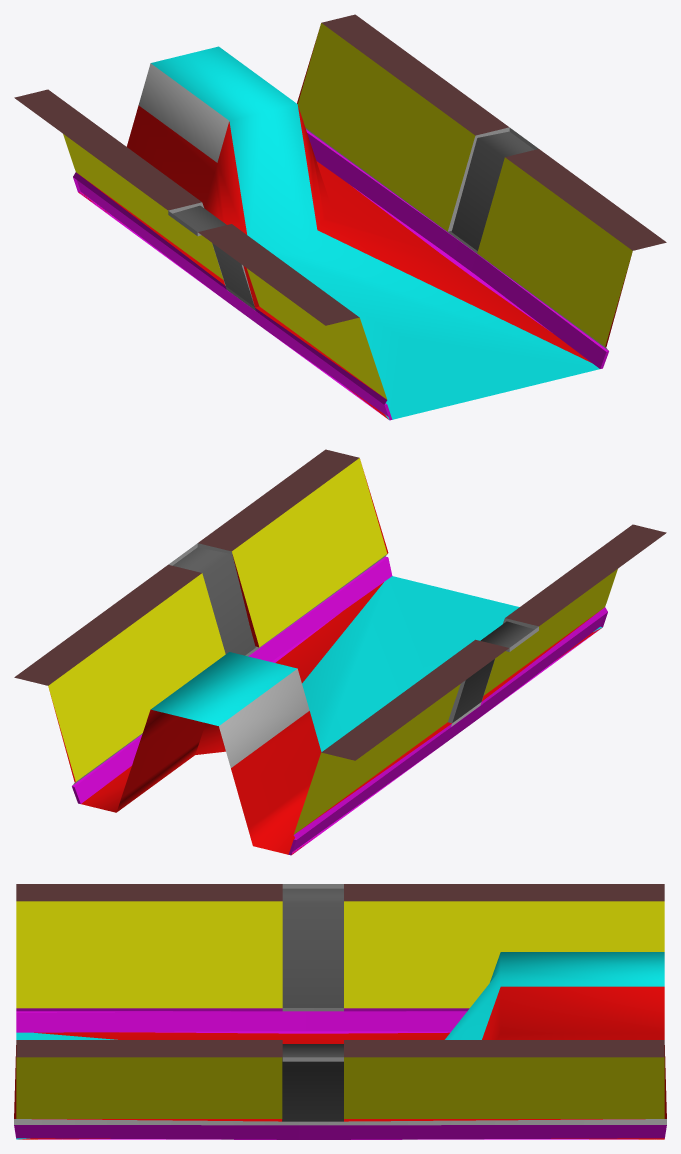
The model's file is bkgel1hi.fbx.
The picture shows the model from 3 angles, top to bottom: view 1: azimuth 30°, elevation 25°; view 2: azimuth 150°, elevation 25°; view 3: azimuth 270°, elevation 25°; orthographic projection. The views are drawn at different scales.
Parts seen in each view (by area): view 1: pPlane1; view 2: pPlane1; view 3: pPlane1.
Part boxes in pixels (x1,y1,x2,y2): pPlane1: [14, 14, 666, 420]; pPlane1: [14, 449, 666, 855]; pPlane1: [14, 884, 666, 1139].
Bounding box in the file's own units: 19.15 × 5.98 × 30.49.
